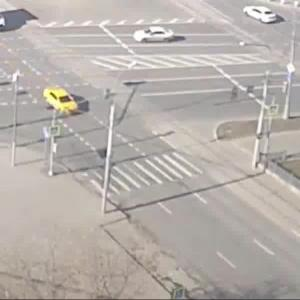car: (45, 86, 82, 118), (242, 6, 280, 28), (135, 27, 176, 47)
